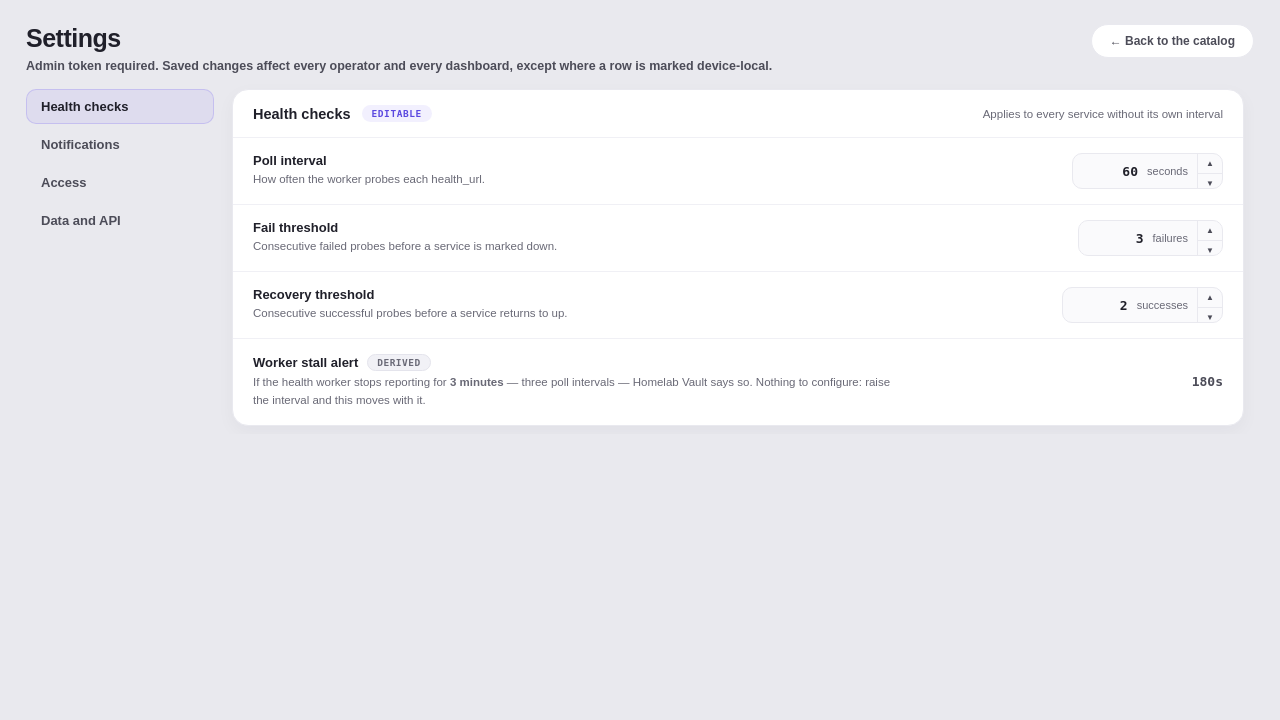
int settings are typable, not stepper-only › accepts a typed value
Replace the text in the number field named "Poll interval" with "300" at (1110, 171), box [1073,154,1147,188]
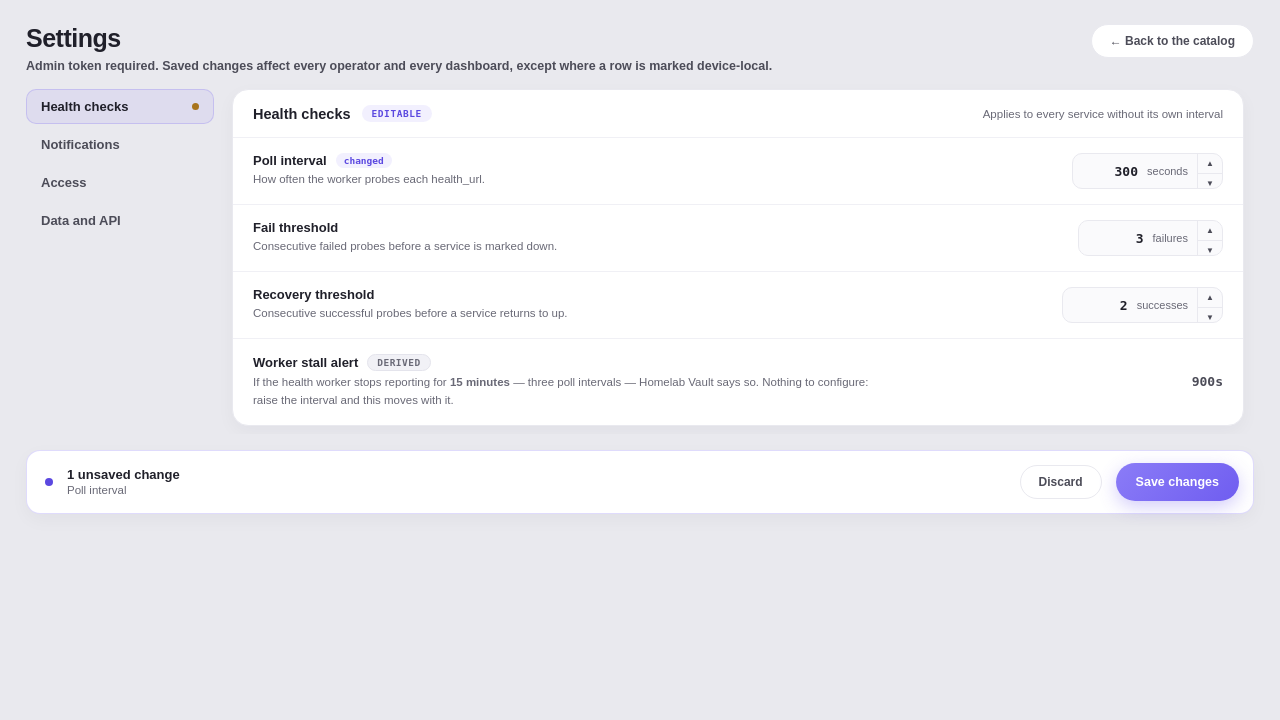
Check: the text "900s" is shown, box [1192,374,1223,389]
